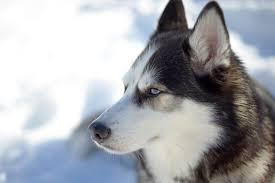Dog: (89, 0, 238, 162)
